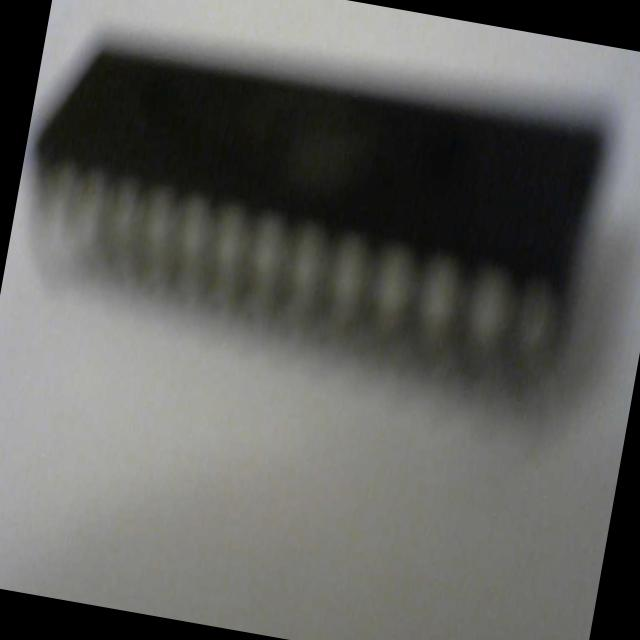atmega: (0, 8, 620, 414)
